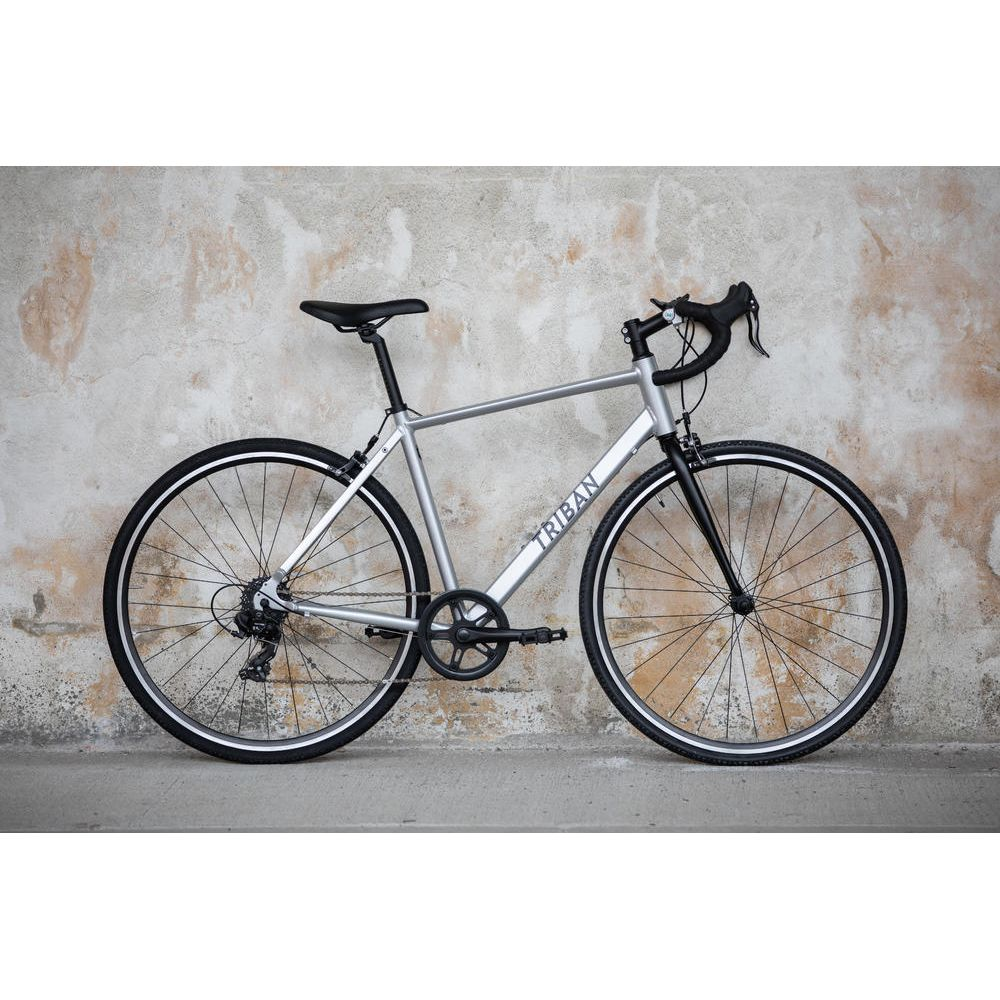RoadBike: (92, 270, 922, 768)
